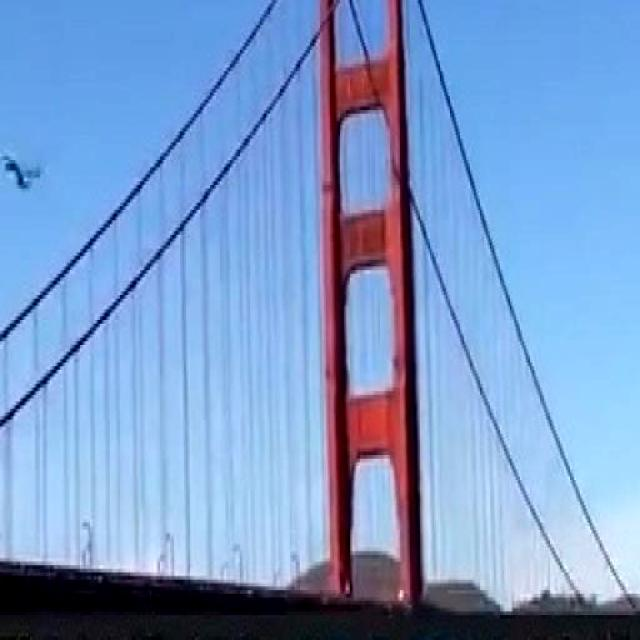airplane: (0, 148, 51, 199)
